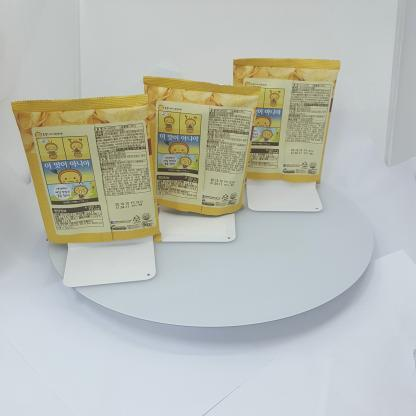Plastic Packaging: (7, 79, 154, 253), (148, 74, 248, 218), (244, 52, 340, 196)
